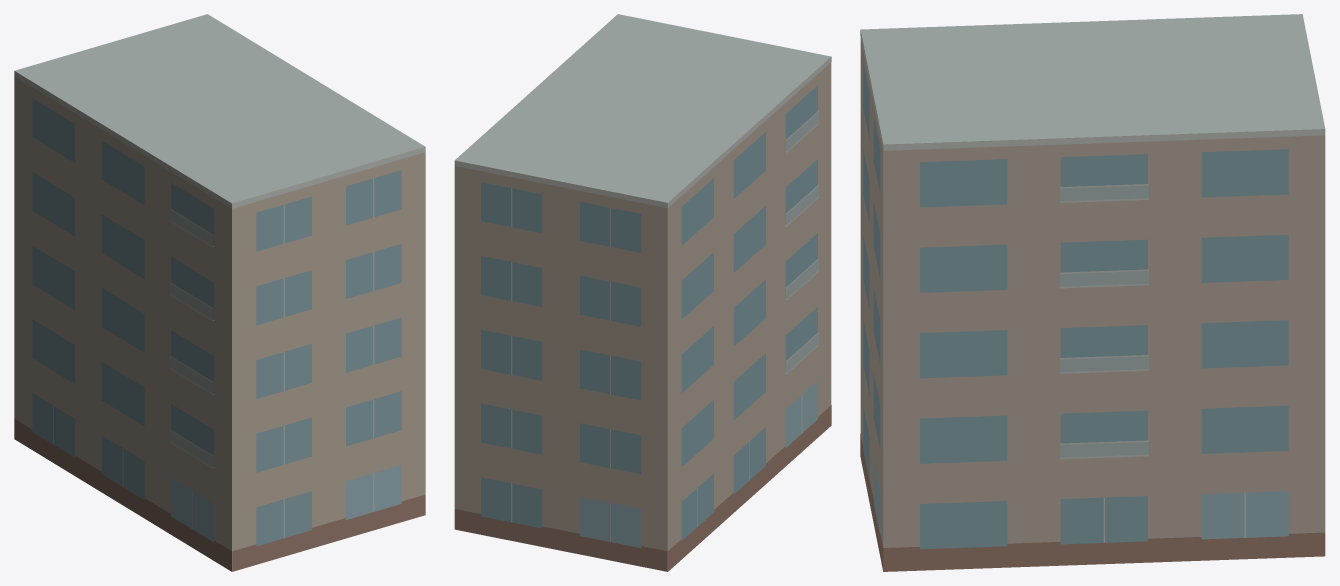
File: survey-upis-32539522.glb
3 renders of one model, left to right at view 1: azimuth 30°, elevation 25°; view 2: azimuth 150°, elevation 25°; view 3: azimuth 270°, elevation 25°, orthographic. The views are drawn at different scales.
Visible parts, largest first — view 1: survey-upis-32539522.tmp; view 2: survey-upis-32539522.tmp; view 3: survey-upis-32539522.tmp.
Part boxes in pixels (<box>): survey-upis-32539522.tmp: <box>14,14,425,571</box>; survey-upis-32539522.tmp: <box>454,14,831,571</box>; survey-upis-32539522.tmp: <box>860,14,1325,571</box>.
Bounding box in the file's own units: 10.88 × 16.6 × 16.37.
